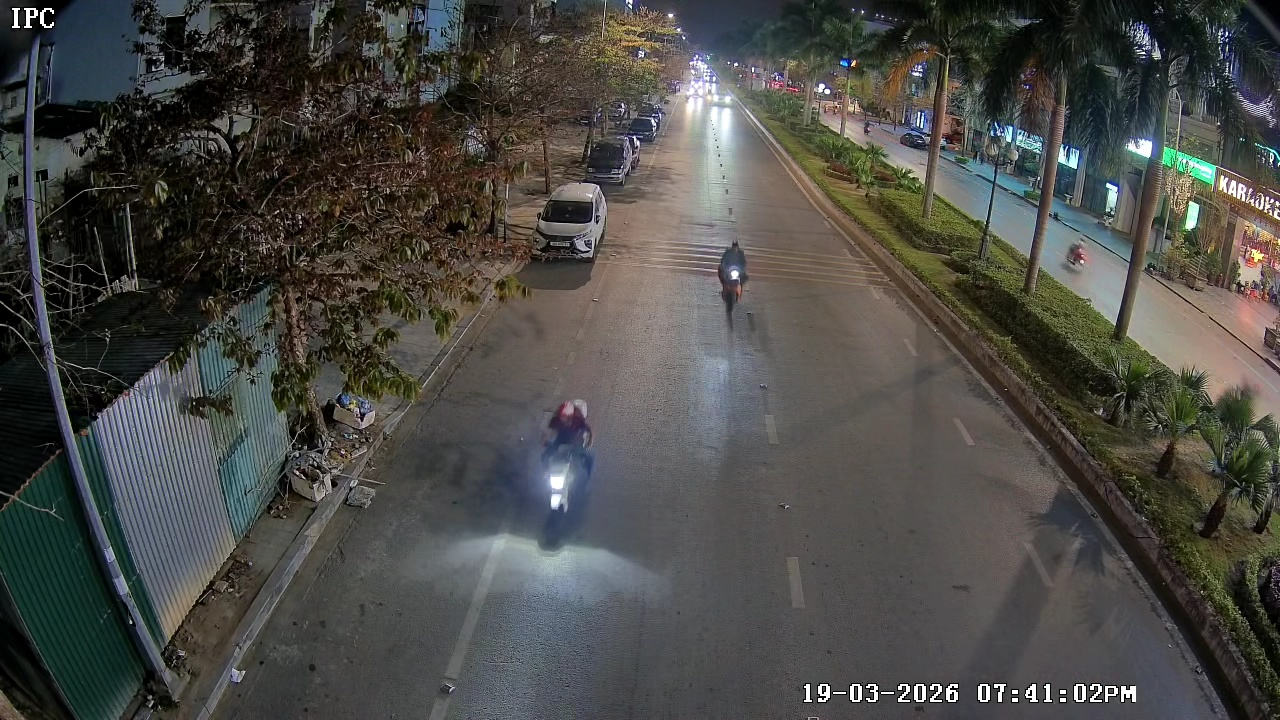car: (532, 180, 608, 263), (581, 131, 642, 186)
motorbike: (538, 399, 598, 544), (715, 238, 750, 317)
